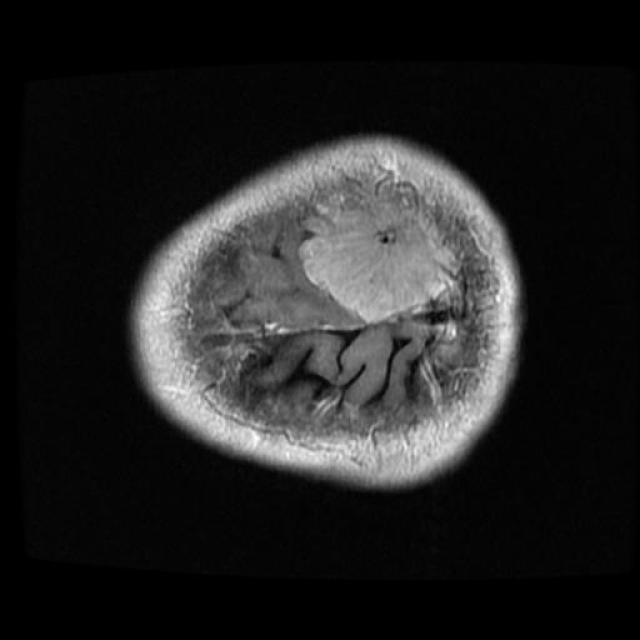Meningioma: (299, 195, 459, 324)
